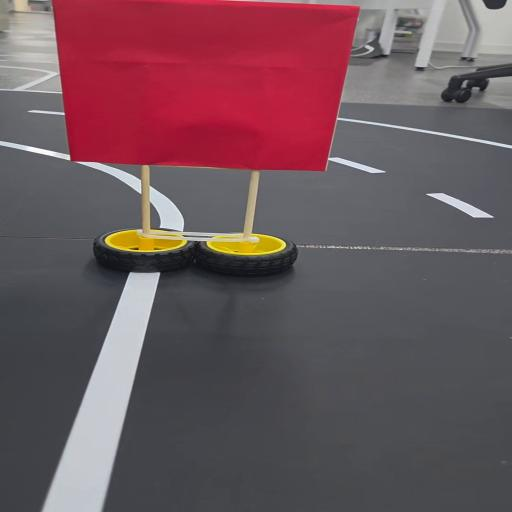Sign_A: (52, 0, 367, 296)
